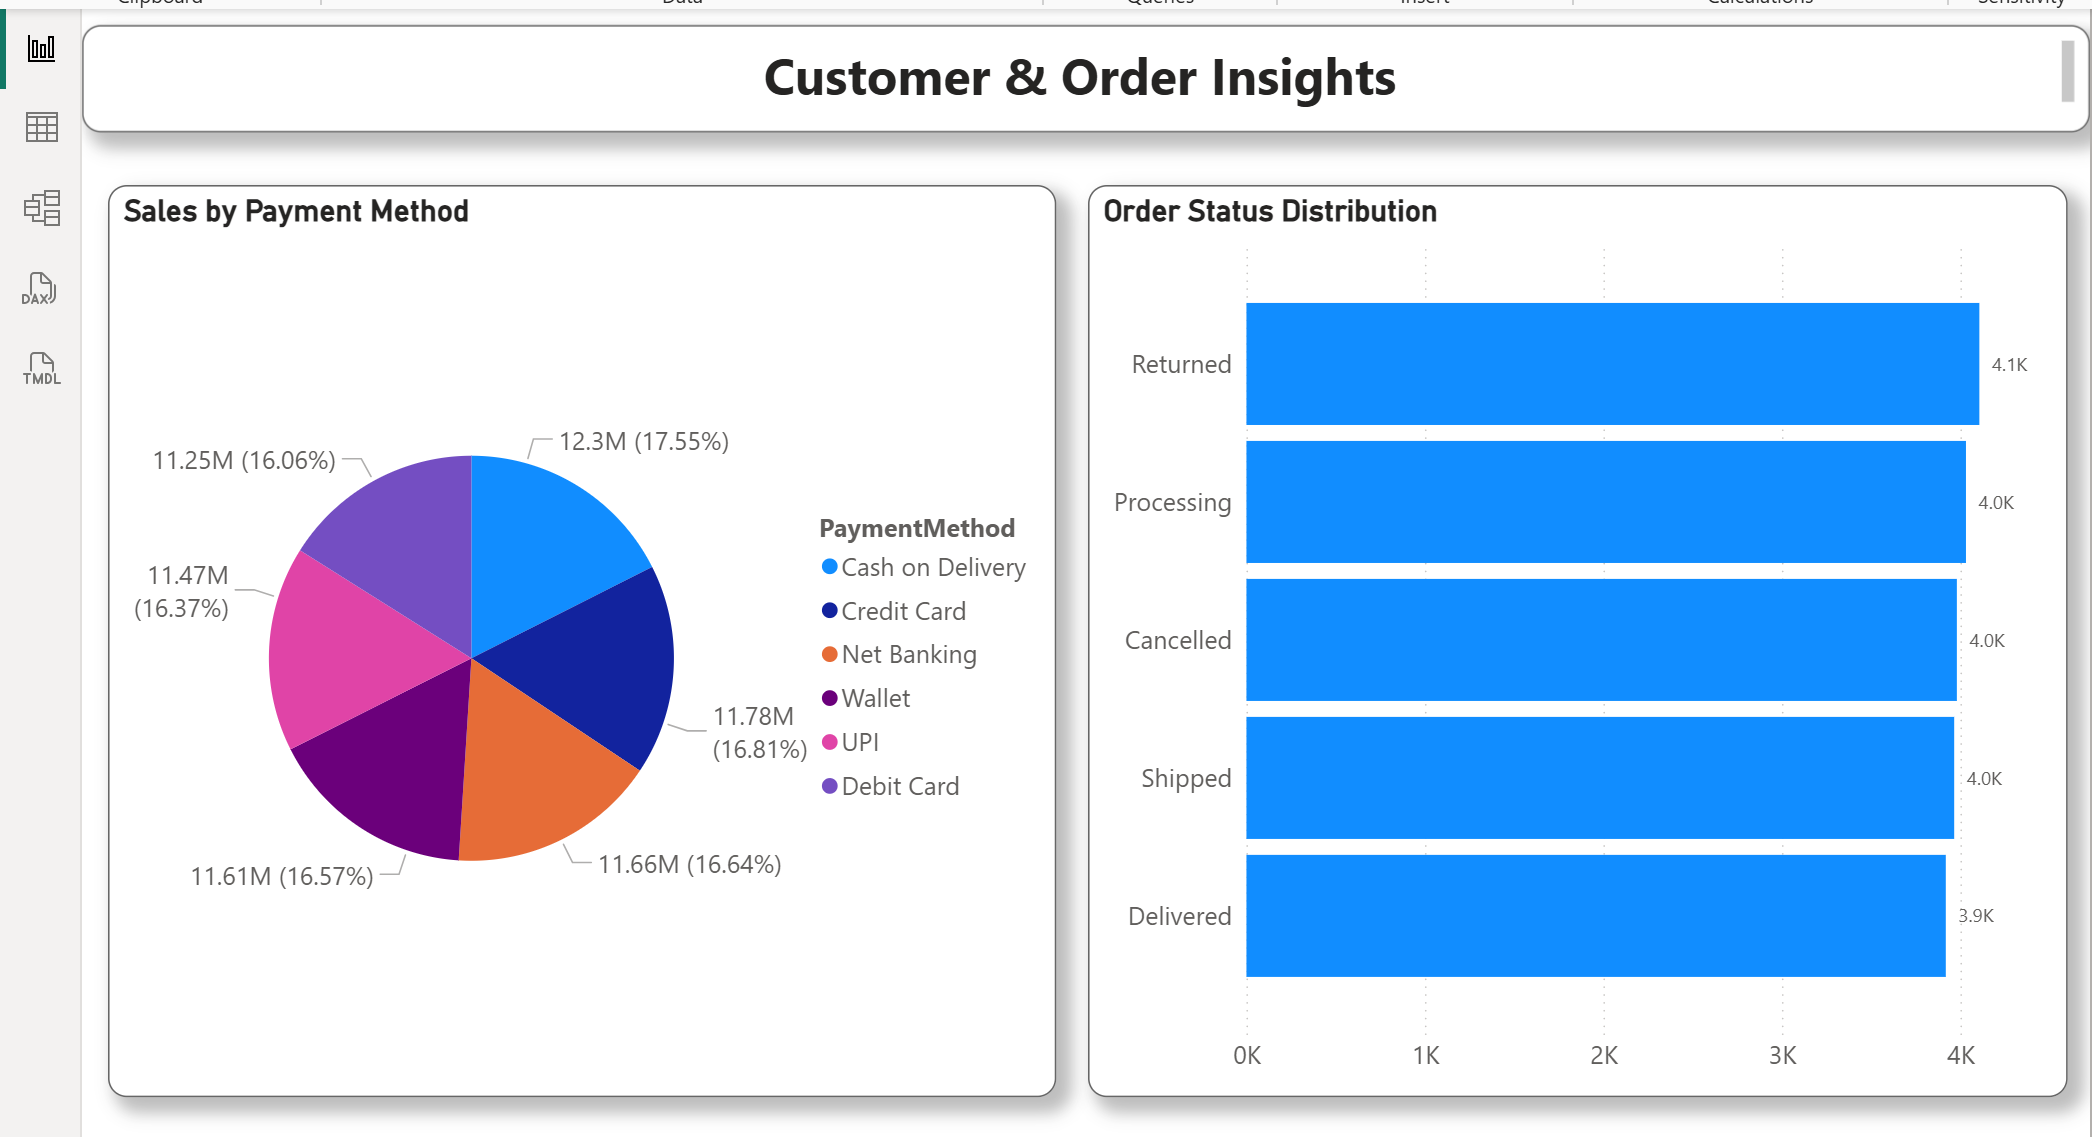

This screenshot's page, from the dashboard's own definition file:
{"tool":"powerbi","page":{"name":"Customer & Order Insights","canvas":[1280,720],"ordinal":7},"visuals":[{"type":"pieChart","title":"Sales by Payment Method","fields":{"Category":["ecommerce_sales_dataset.PaymentMethod"],"Y":["Sum(ecommerce_sales_dataset.TotalAmount)"]},"box":[16.6,112.2,604.3,581.4],"z":0},{"type":"clusteredBarChart","title":"Order Status Distribution","fields":{"Category":["ecommerce_sales_dataset.OrderStatus"],"Y":["CountNonNull(ecommerce_sales_dataset.OrderID)"]},"box":[641.3,112.2,624.7,581.4],"z":1000},{"type":"textbox","box":[0,10.6,1280,68.7],"z":2000}]}

Visuals, with their boxes on the page's 1280x720 design canvas (x1, y1, x2, y2). These are canvas units, not pixel positions in the 2092x1137 screenshot, which may show the page scaled, cropped or inside an application window:
"Sales by Payment Method" pieChart: detection(17, 112, 621, 694)
"Order Status Distribution" clusteredBarChart: detection(641, 112, 1266, 694)
textbox: detection(0, 11, 1280, 79)
